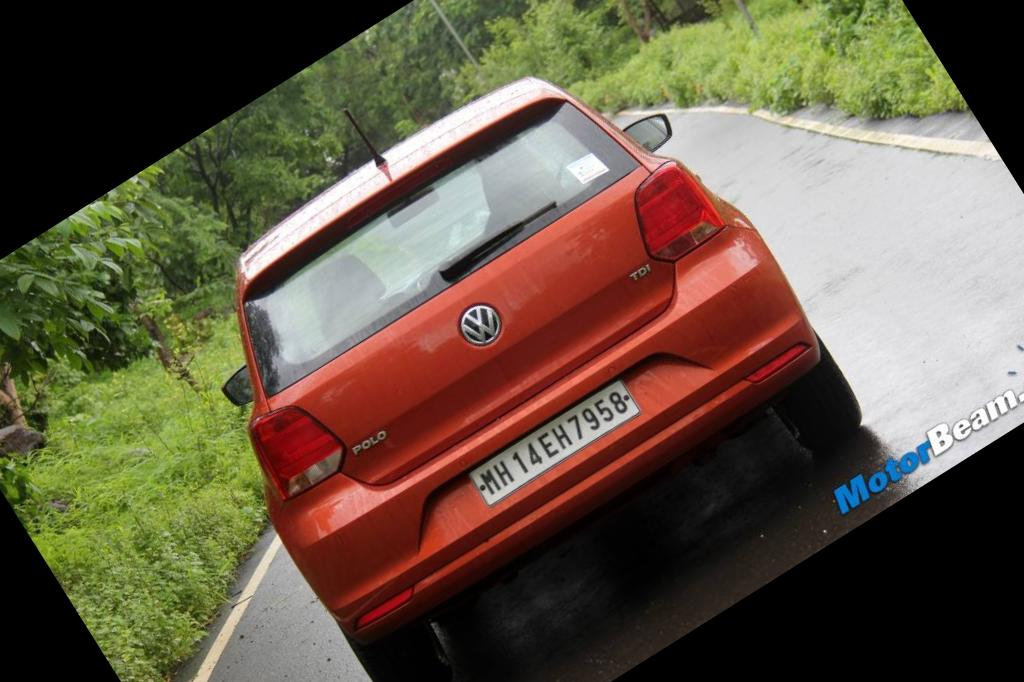plate: (457, 363, 660, 522)
